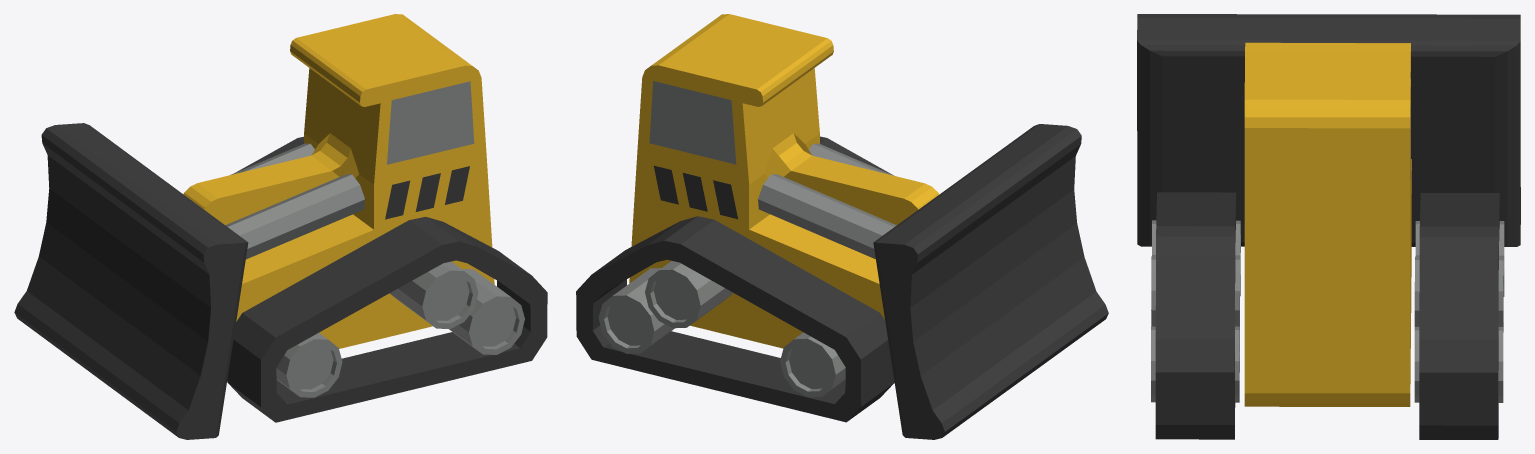
The model's file is Track2.fbx.
3 renders of one model, left to right at view 1: azimuth 30°, elevation 25°; view 2: azimuth 150°, elevation 25°; view 3: azimuth 270°, elevation 25°, orthographic. The views are drawn at different scales.
Visible parts, largest first — view 1: BulldozerBlade, BulldozerCab, BulldozerTrack, BulldozerCylinder, BulldozerIdler1, BulldozerIdler2, BulldozerIdler, BulldozerCylinder1; view 2: BulldozerBlade, BulldozerCab, BulldozerTrack1, BulldozerCylinder1, Bulldozerdler4, BulldozerIdler5, Bulldozerdler3, BulldozerCylinder; view 3: BulldozerCab, BulldozerBlade, BulldozerTrack, BulldozerTrack1, BulldozerIdler5, Bulldozerdler4, BulldozerIdler2, BulldozerIdler1, Bulldozerdler3, BulldozerIdler.
Boxes of the visible parts, left/top/right/bottom form: BulldozerBlade: left=14, top=123, right=248, bottom=439; BulldozerCab: left=183, top=14, right=494, bottom=348; BulldozerTrack: left=227, top=216, right=547, bottom=422; BulldozerCylinder: left=225, top=174, right=364, bottom=259; BulldozerIdler1: left=389, top=261, right=478, bottom=328; BulldozerIdler2: left=449, top=269, right=524, bottom=354; BulldozerIdler: left=276, top=333, right=342, bottom=397; BulldozerCylinder1: left=231, top=143, right=314, bottom=174; BulldozerBlade: left=873, top=124, right=1108, bottom=439; BulldozerCab: left=629, top=14, right=939, bottom=348; BulldozerTrack1: left=576, top=216, right=894, bottom=422; BulldozerCylinder1: left=758, top=174, right=896, bottom=259; Bulldozerdler4: left=645, top=261, right=733, bottom=328; BulldozerIdler5: left=598, top=268, right=674, bottom=353; Bulldozerdler3: left=780, top=332, right=845, bottom=397; BulldozerCylinder: left=808, top=143, right=893, bottom=175; BulldozerCab: left=1244, top=42, right=1411, bottom=406; BulldozerBlade: left=1137, top=14, right=1520, bottom=246; BulldozerTrack: left=1155, top=192, right=1236, bottom=439; BulldozerTrack1: left=1419, top=192, right=1499, bottom=439; BulldozerIdler5: left=1414, top=327, right=1503, bottom=402; Bulldozerdler4: left=1414, top=256, right=1503, bottom=332; BulldozerIdler2: left=1151, top=326, right=1239, bottom=402; BulldozerIdler1: left=1151, top=256, right=1239, bottom=331; Bulldozerdler3: left=1415, top=221, right=1504, bottom=296; BulldozerIdler: left=1152, top=220, right=1240, bottom=296.
Size of the model in its own units: 623 by 430 by 463.
